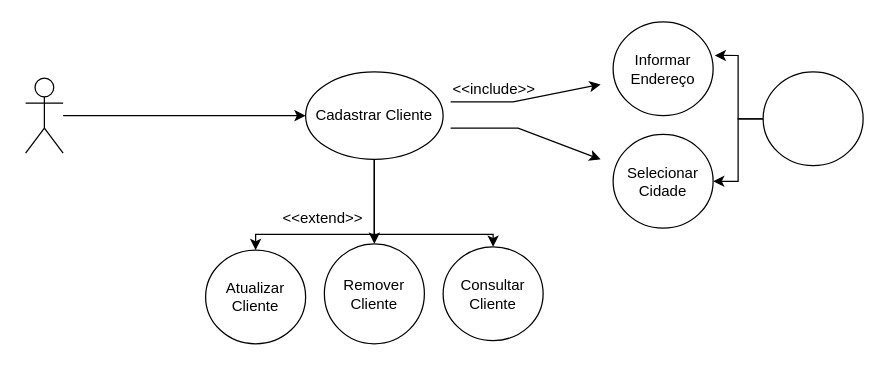
Some shapes in this 885 by 366 pixel diagram are drawn without their labels. The shapes that lost their labels are listed below. From the top down, each one's centre as x and y in pixels, then its label:
At point (43, 115): "Cliente".
At point (812, 118): "Selecionar Estado".
